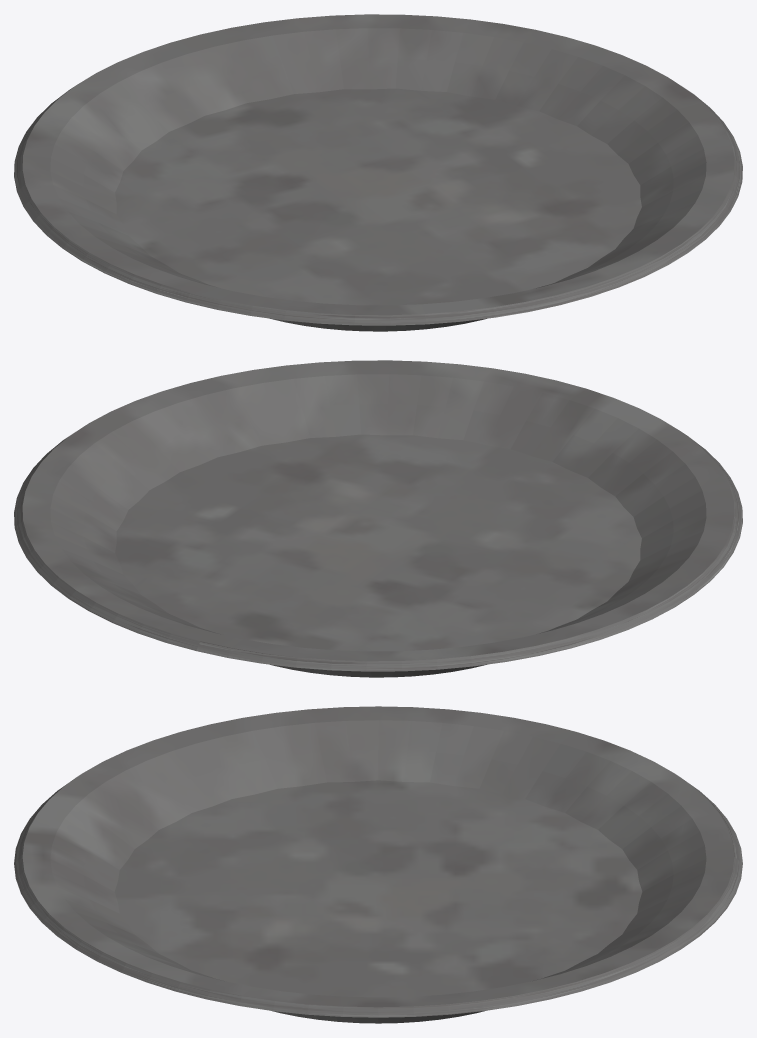
File: plate.fbx
3 views of the same model, one above another, from view 1: azimuth 30°, elevation 25°; view 2: azimuth 150°, elevation 25°; view 3: azimuth 270°, elevation 25° (orthographic).
Visible parts, largest first — view 1: Cylinder.008; view 2: Cylinder.008; view 3: Cylinder.008.
Part boxes in pixels (x1,y1,x2,y2): Cylinder.008: (14, 14, 742, 331); Cylinder.008: (14, 360, 742, 677); Cylinder.008: (14, 706, 742, 1023).
Bounding box in the file's own units: 83.45 × 9.85 × 83.45.
